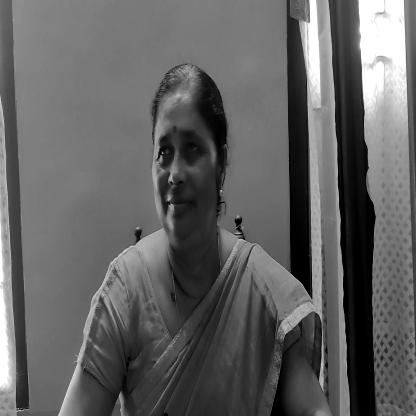Distracted: (151, 67, 228, 253)
